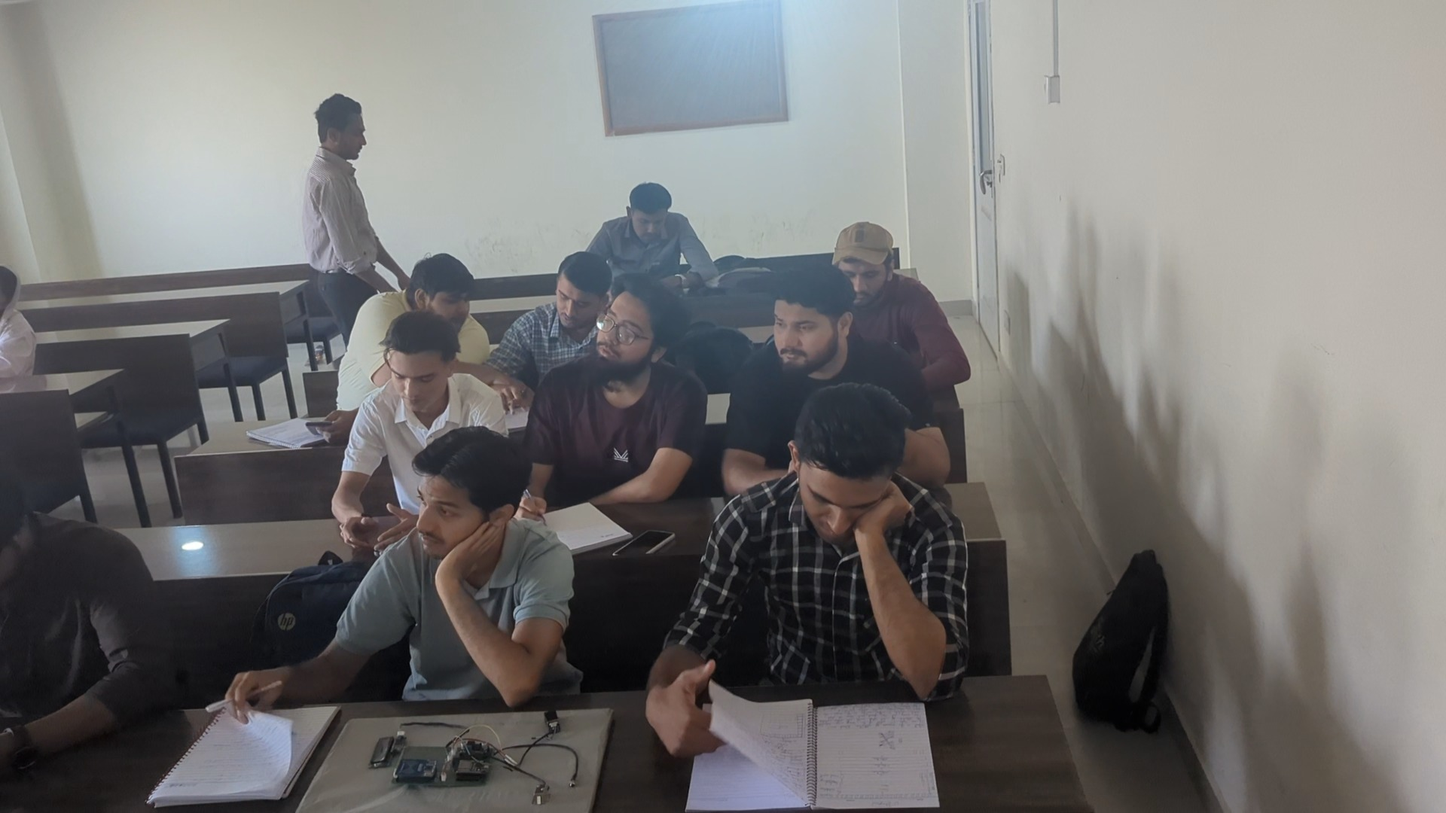look_forward: (218, 423, 584, 728), (716, 261, 955, 501), (510, 267, 710, 507)
read: (638, 378, 973, 813), (829, 220, 972, 392), (482, 249, 612, 427), (582, 180, 721, 296)
stand: (298, 85, 419, 353)
turn_head: (335, 251, 493, 367)
using_device: (327, 306, 515, 561)
